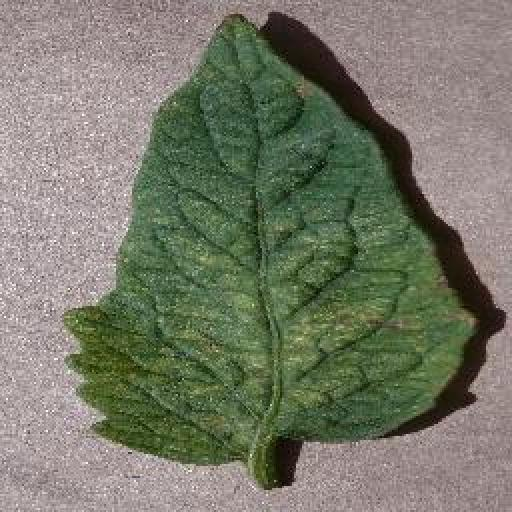disease_tomato: (61, 12, 476, 464)
